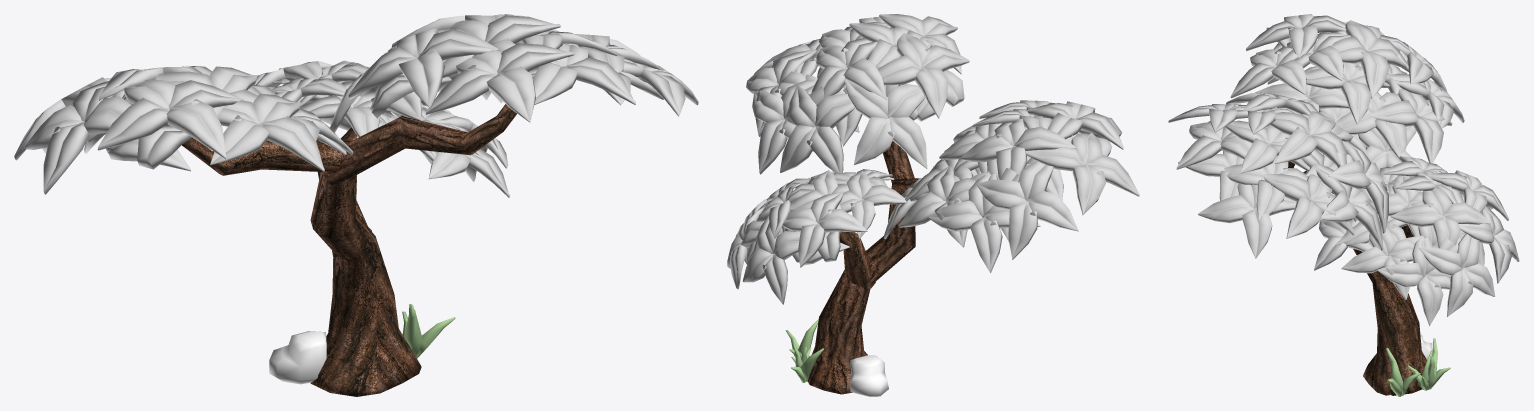
The model's file is tree.glb.
The picture shows the model from 3 angles, left to right: view 1: azimuth 30°, elevation 25°; view 2: azimuth 150°, elevation 25°; view 3: azimuth 270°, elevation 25°; orthographic projection. The views are drawn at different scales.
Parts seen in each view (by area): view 1: Plane.542, Plane.543, Vert.002, Plane.544, Circle.065, Plane.547; view 2: Plane.543, Plane.542, Plane.544, Vert.002, Circle.065, Plane.546, Plane.547; view 3: Plane.543, Plane.542, Plane.544, Vert.002, Plane.547, Plane.546, Plane.545.
Boxes of the visible parts, <box> form: Plane.542: <box>14,65,353,194</box>; Plane.543: <box>330,14,698,132</box>; Vert.002: <box>166,104,516,396</box>; Plane.544: <box>254,60,510,197</box>; Circle.065: <box>269,331,326,384</box>; Plane.547: <box>402,304,455,358</box>; Plane.543: <box>746,14,969,174</box>; Plane.542: <box>883,100,1139,273</box>; Plane.544: <box>727,169,906,304</box>; Vert.002: <box>807,141,918,394</box>; Circle.065: <box>850,355,888,396</box>; Plane.546: <box>791,343,823,382</box>; Plane.547: <box>785,319,818,357</box>; Plane.543: <box>1168,92,1388,258</box>; Plane.542: <box>1230,14,1464,177</box>; Plane.544: <box>1314,156,1519,325</box>; Vert.002: <box>1288,146,1426,395</box>; Plane.547: <box>1386,347,1420,396</box>; Plane.546: <box>1427,338,1450,389</box>; Plane.545: <box>1407,351,1432,390</box>.
Bounding box in the file's own units: 1.34 × 0.8675 × 0.9779.
Materials: 4 (1 with a texture image).
